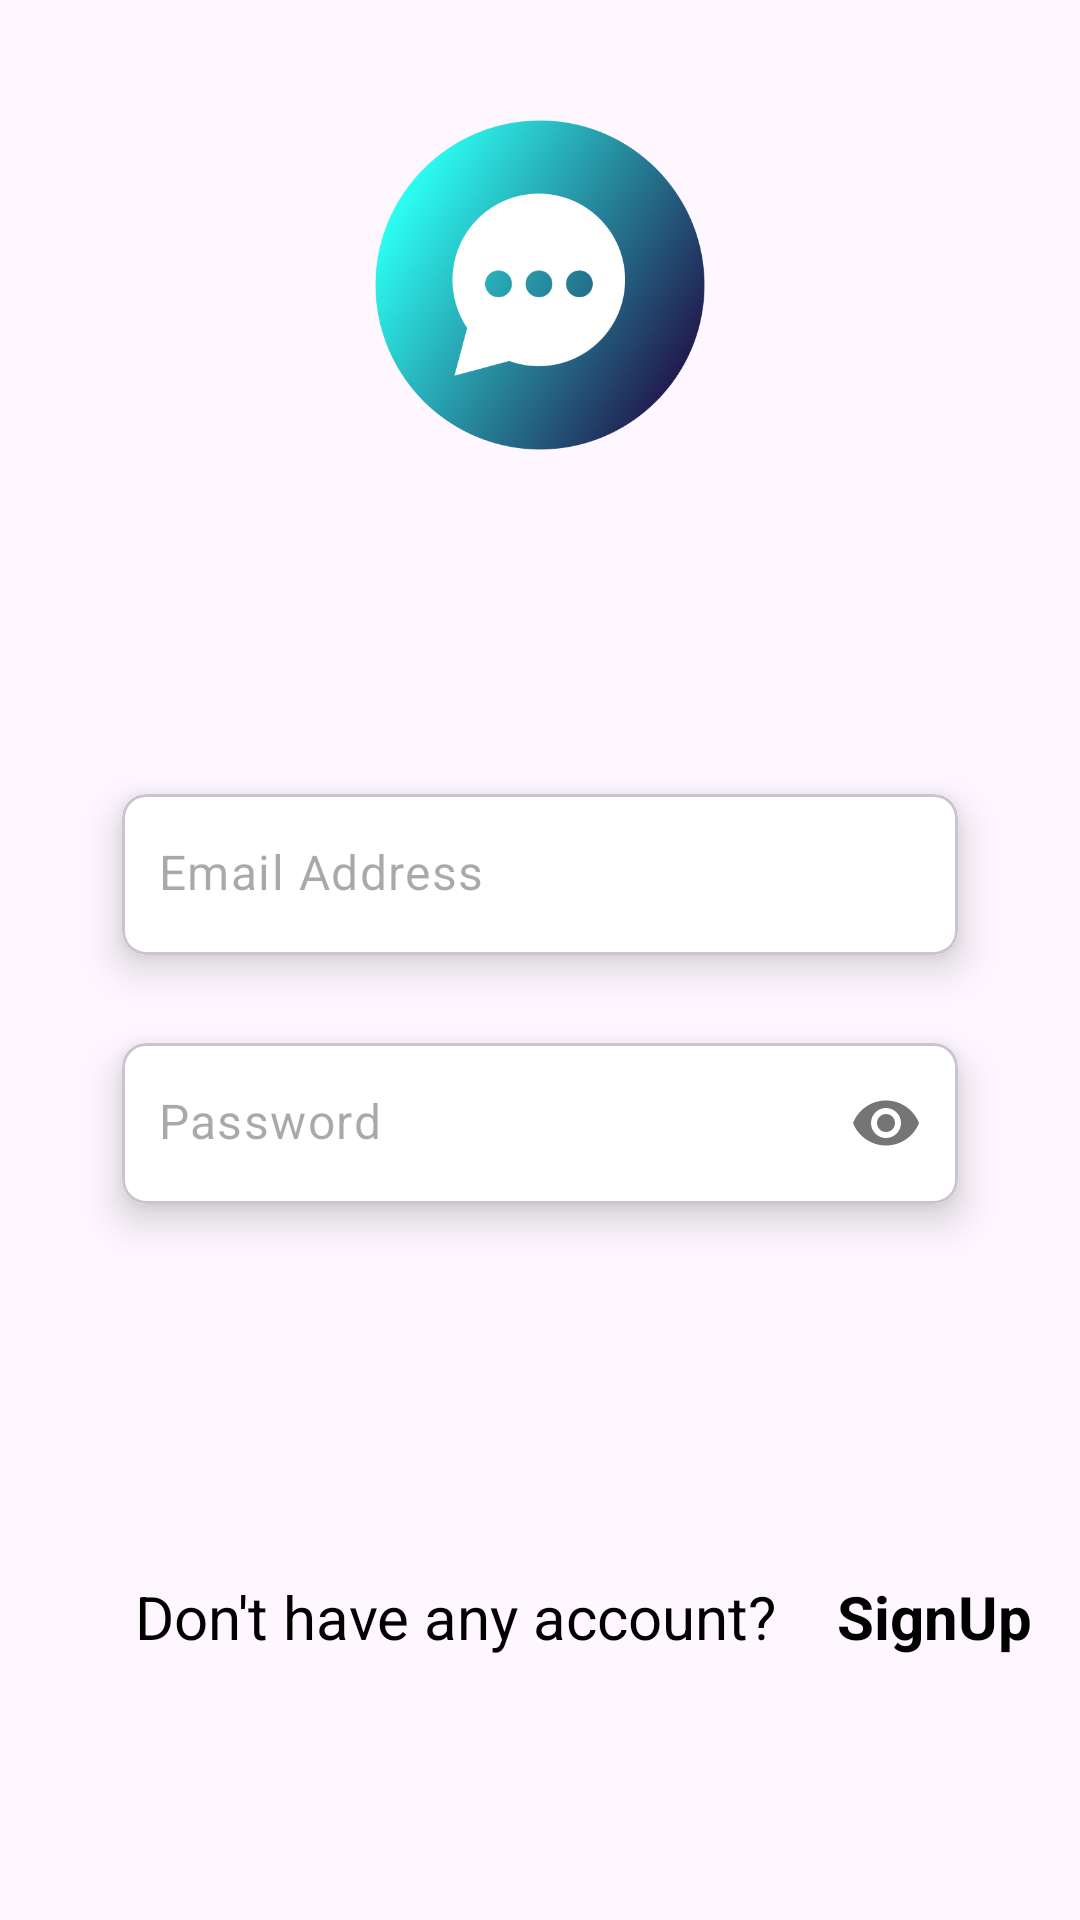

Locate icon controls on the screen. Image size 1080*1920, boxes as [x1,y1,x2,y2].
chat: [375,120,705,450]
